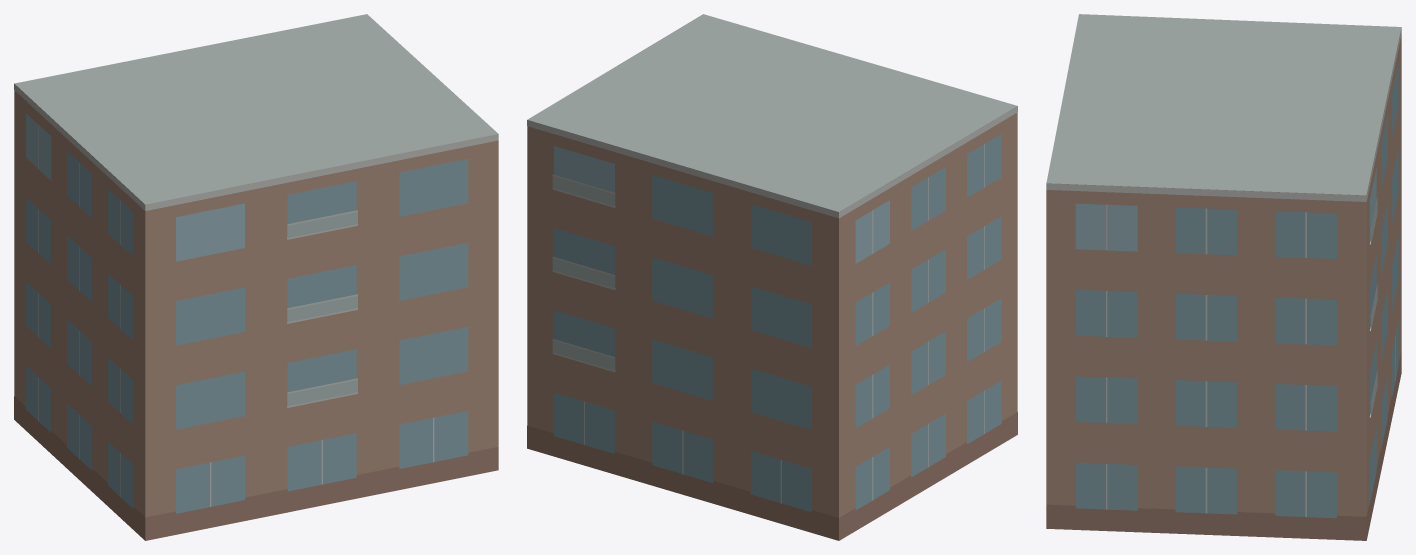
Rendered from survey-upis-32751928.glb.
3 renders of one model, left to right at view 1: azimuth 30°, elevation 25°; view 2: azimuth 150°, elevation 25°; view 3: azimuth 270°, elevation 25°, orthographic. The views are drawn at different scales.
Visible parts, largest first — view 1: survey-upis-32751928.tmp; view 2: survey-upis-32751928.tmp; view 3: survey-upis-32751928.tmp.
Part boxes in pixels (<box>): survey-upis-32751928.tmp: <box>14,14,498,540</box>; survey-upis-32751928.tmp: <box>527,14,1017,540</box>; survey-upis-32751928.tmp: <box>1046,14,1401,540</box>.
Size of the model in its own units: 14.31 by 12.7 by 11.85.
